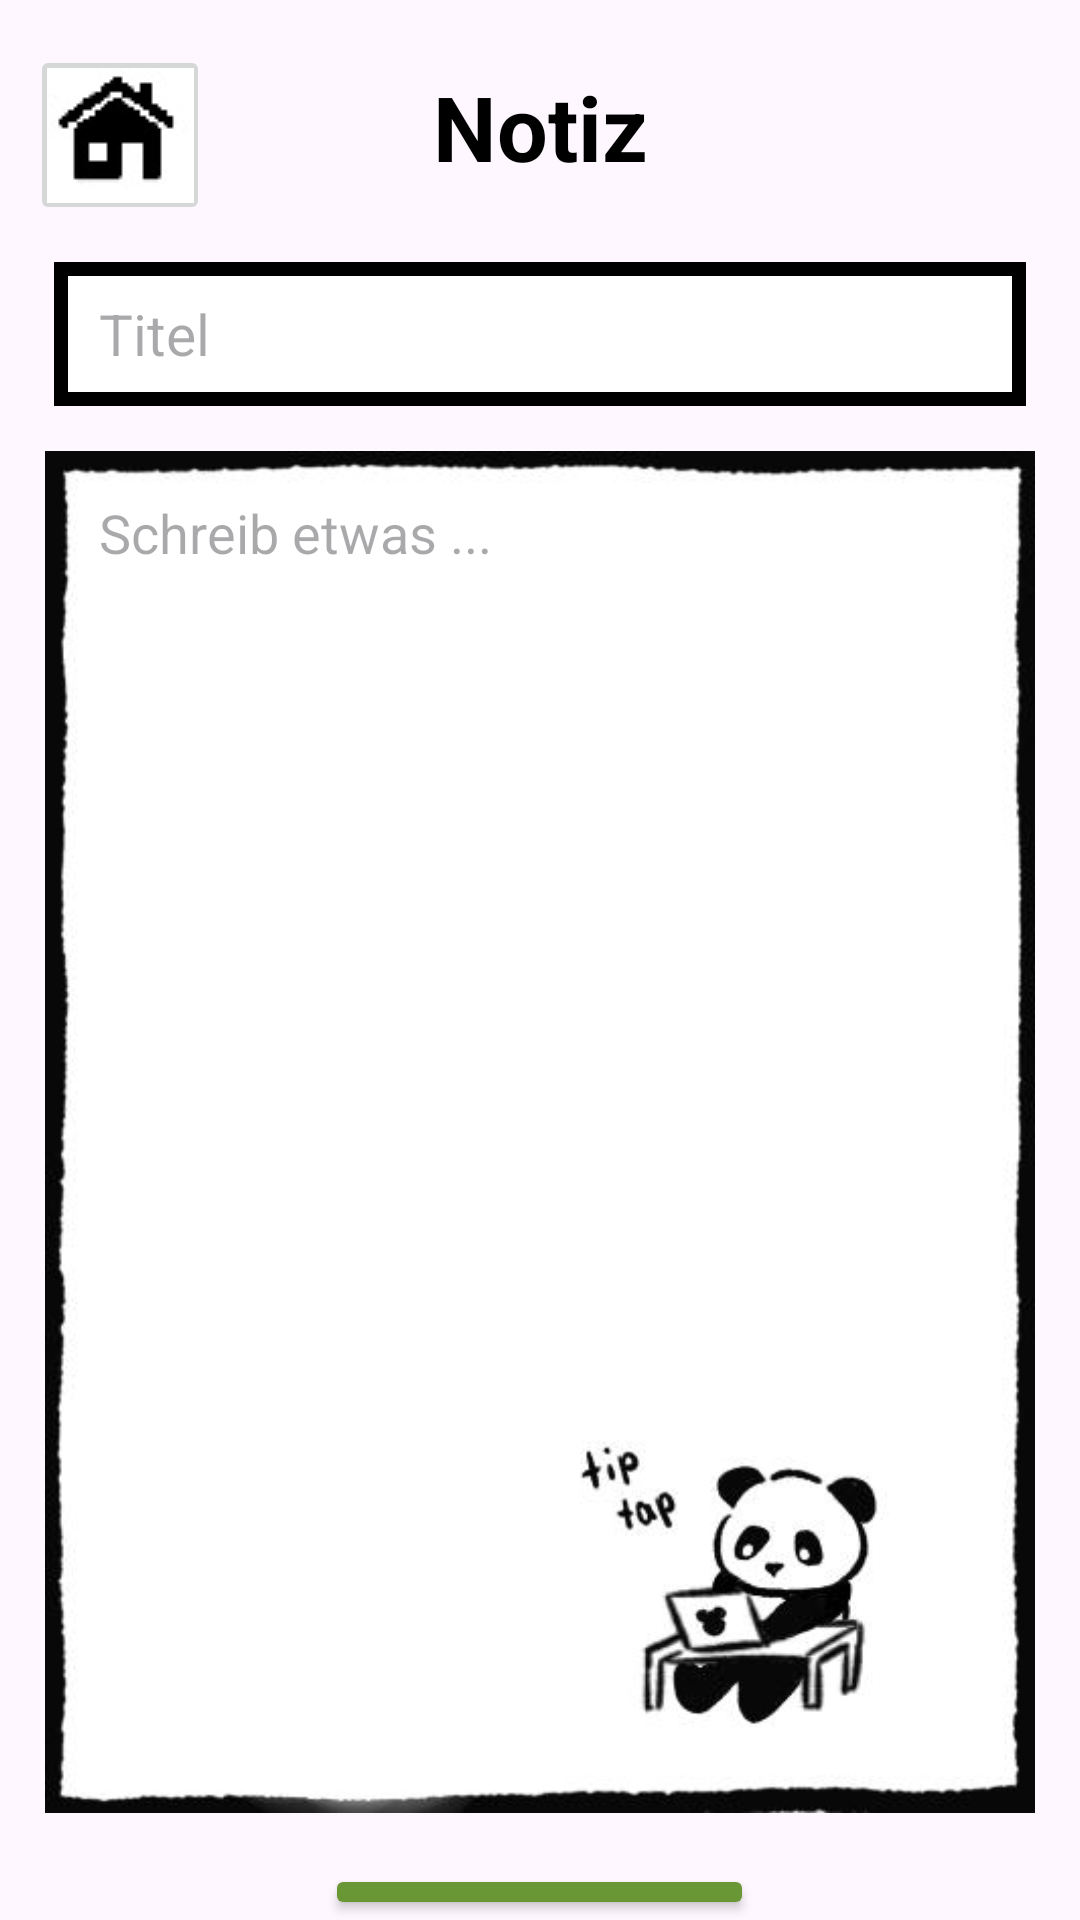

Icon bounding boxes for this 1080px×1920px phone screenshot, format box(x1, y1, x2, y2):
hier kann man zurück zum Home menue: box(42, 63, 198, 207)
